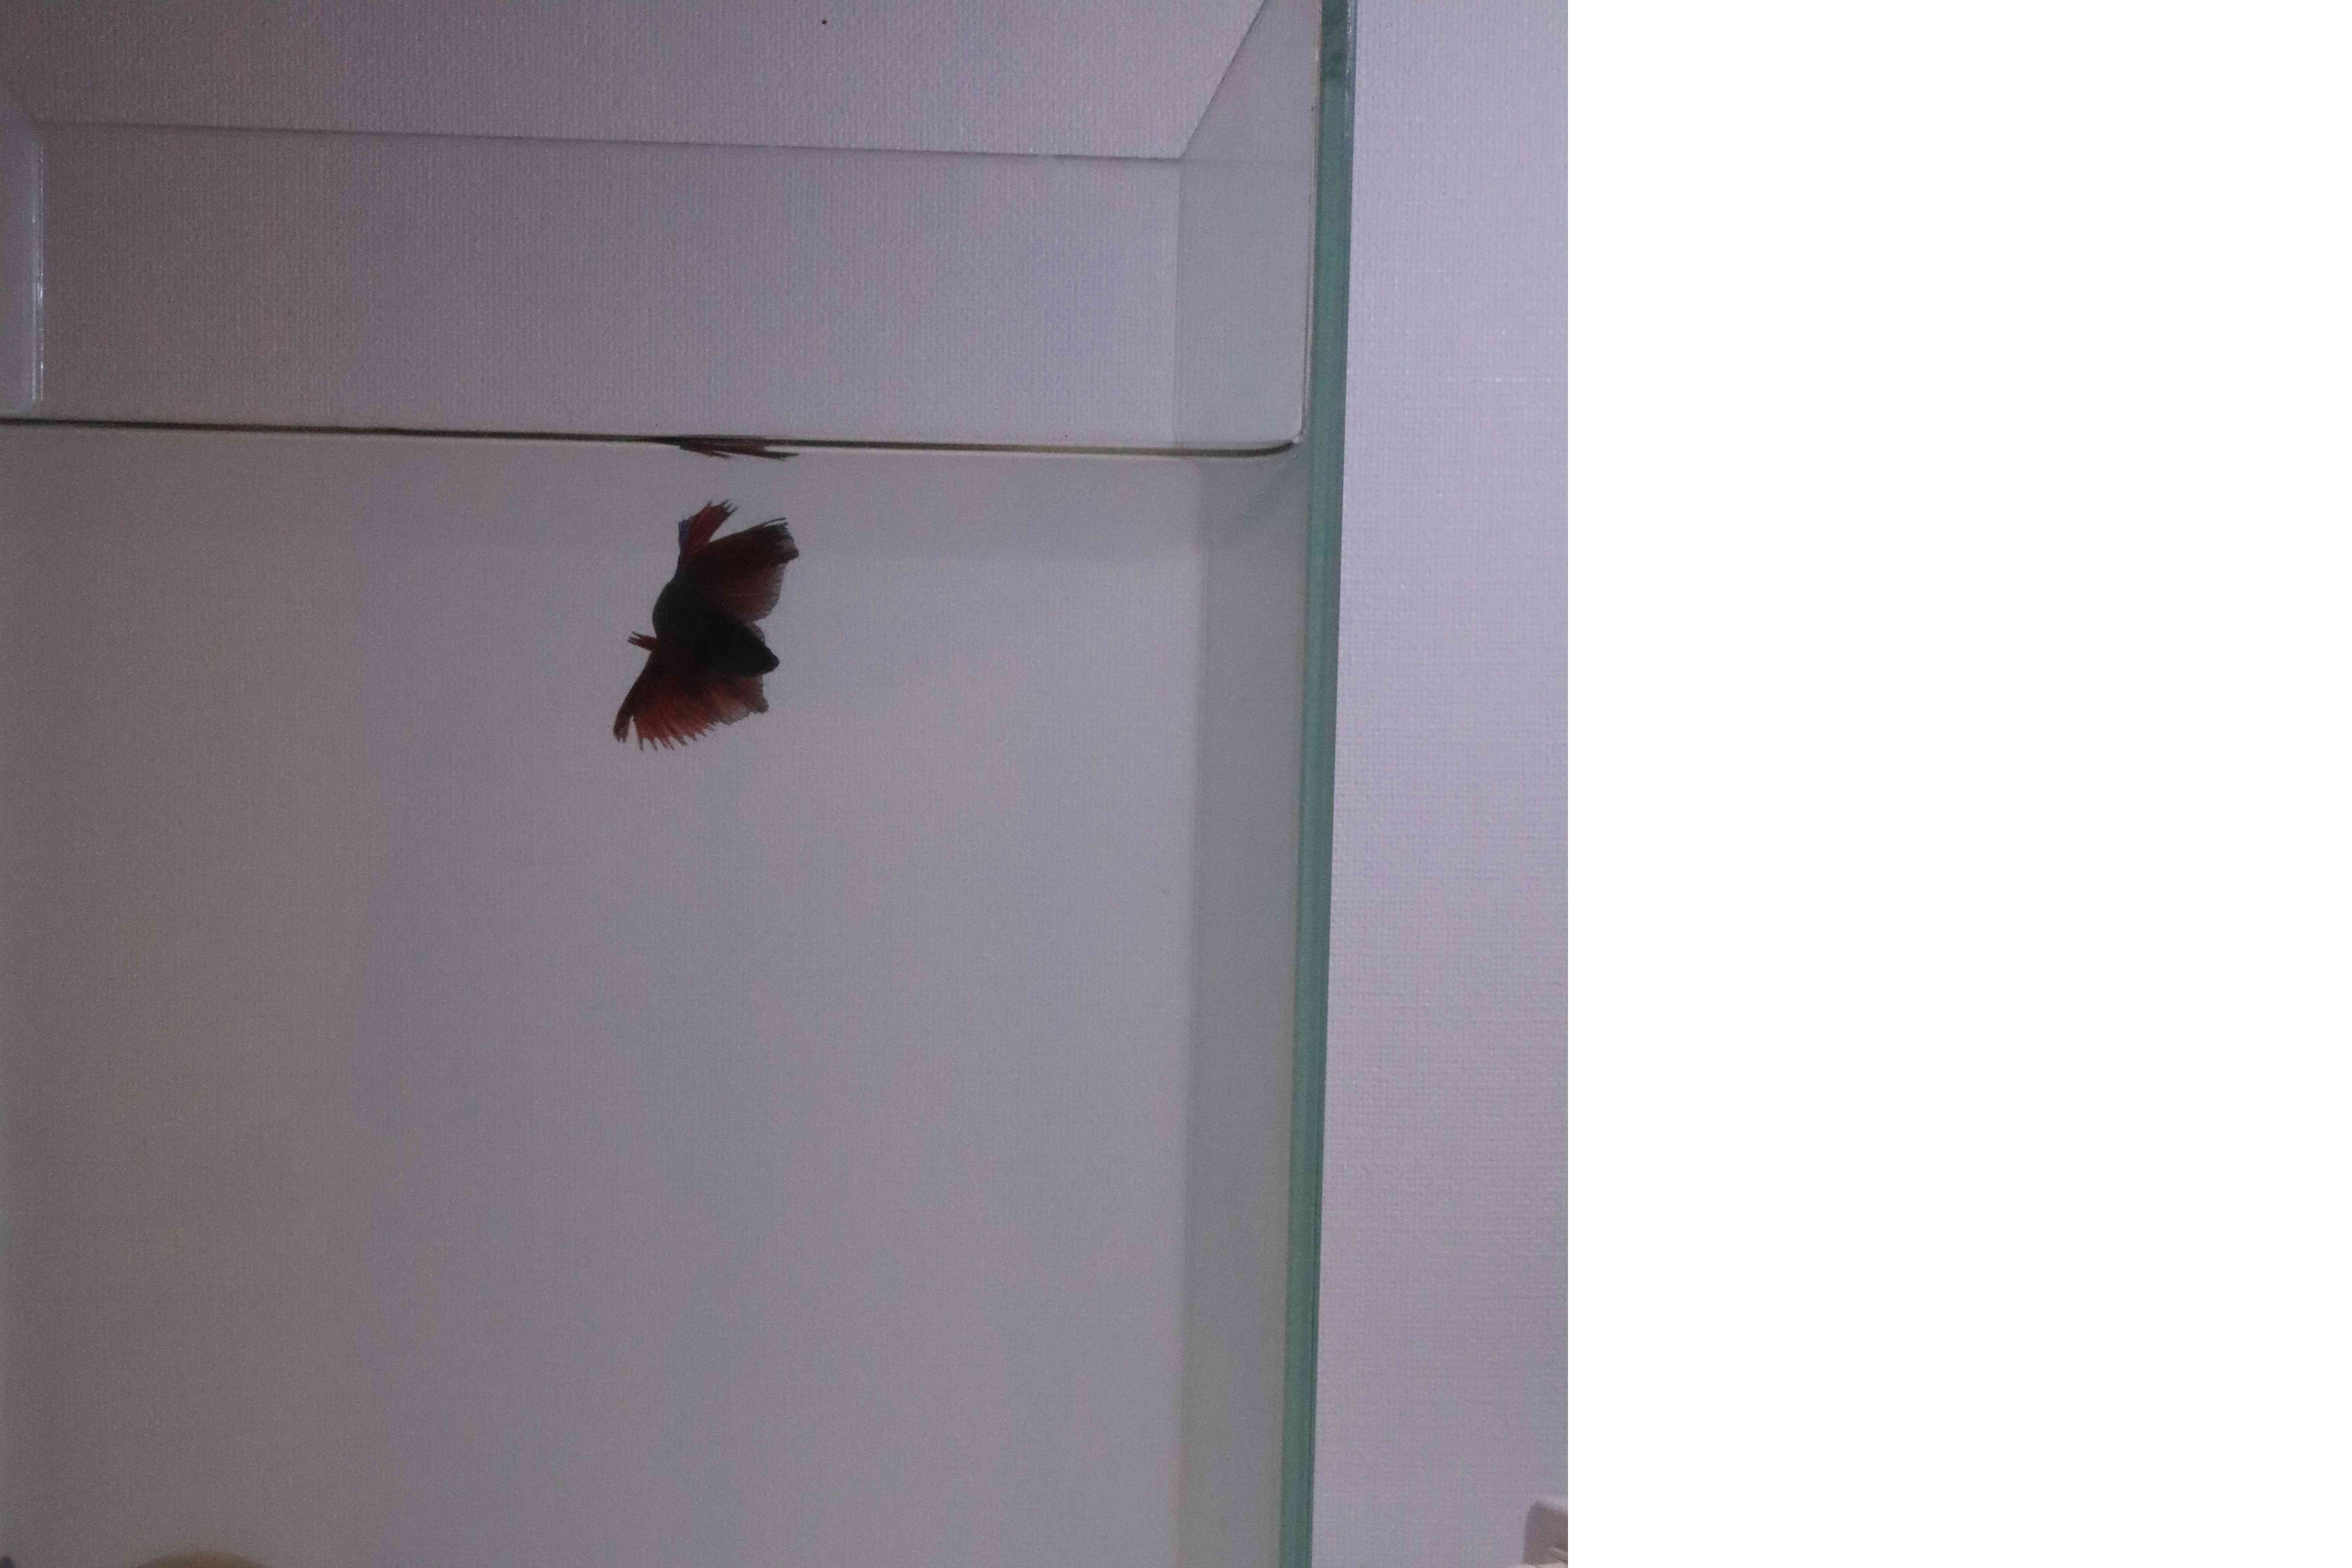fish: (593, 501, 817, 765)
